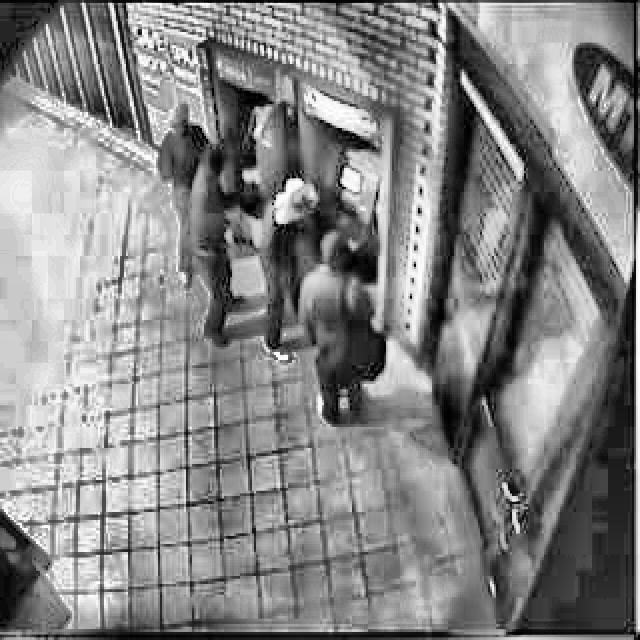burglary: (155, 91, 389, 428)
